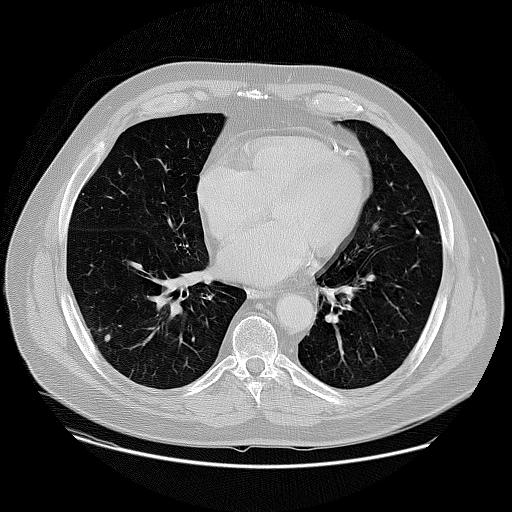nodule: (101, 332, 113, 344)
